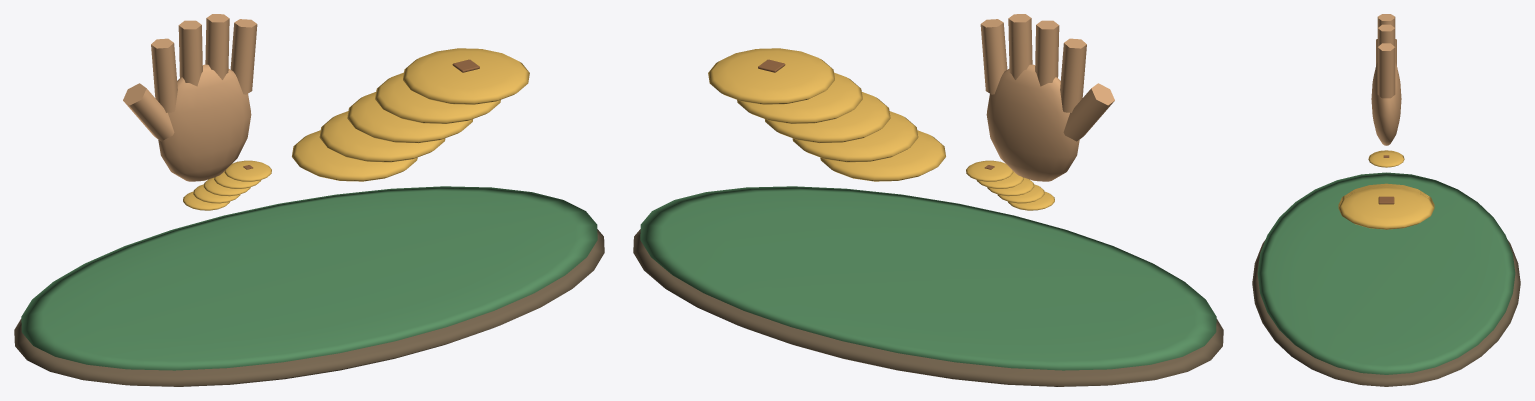
The model's file is paying-funds.glb.
3 views of the same model, side by side, from view 1: azimuth 30°, elevation 25°; view 2: azimuth 150°, elevation 25°; view 3: azimuth 270°, elevation 25° (orthographic). The views are drawn at different scales.
Parts seen in each view (by area): view 1: paying-funds_surface_01, paying-funds_surface_03, paying-funds_surface_02, paying-funds_surface_00; view 2: paying-funds_surface_01, paying-funds_surface_03, paying-funds_surface_02, paying-funds_surface_00; view 3: paying-funds_surface_01, paying-funds_surface_00, paying-funds_surface_03, paying-funds_surface_02.
Part boxes in pixels (x1,y1,x2,y2): paying-funds_surface_01: (21, 186, 597, 370); paying-funds_surface_03: (183, 48, 529, 210); paying-funds_surface_02: (123, 14, 257, 181); paying-funds_surface_00: (14, 229, 604, 386); paying-funds_surface_01: (640, 186, 1216, 370); paying-funds_surface_03: (708, 48, 1054, 210); paying-funds_surface_02: (980, 14, 1114, 181); paying-funds_surface_00: (633, 229, 1223, 386); paying-funds_surface_01: (1257, 172, 1515, 374); paying-funds_surface_00: (1252, 239, 1520, 386); paying-funds_surface_03: (1338, 150, 1434, 229); paying-funds_surface_02: (1371, 14, 1401, 145).
Bounding box in the file's own units: 4.56 × 2.41 × 2.5.
